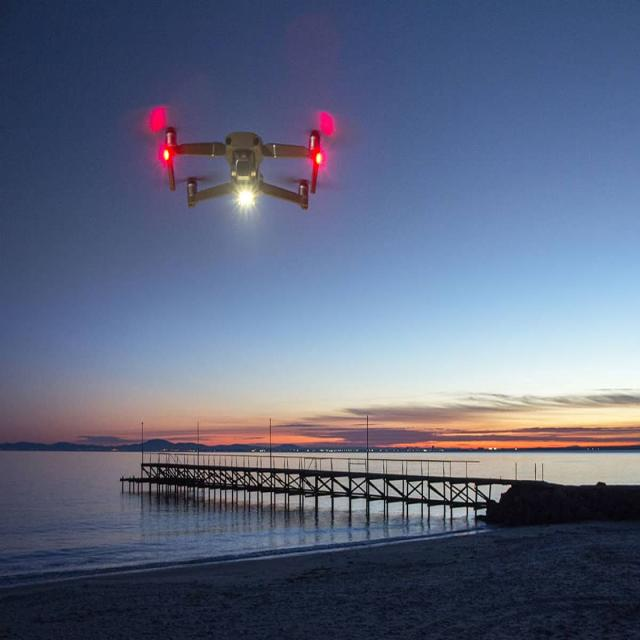drone: (132, 102, 354, 217)
